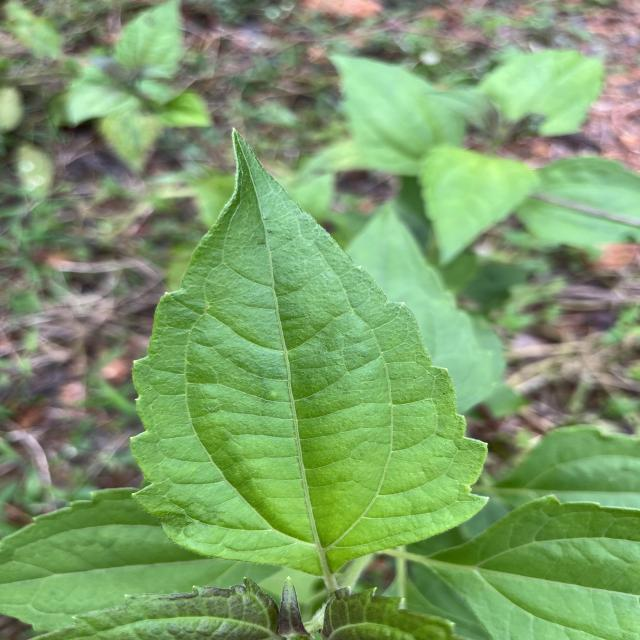Chromolaena odorata: (124, 122, 496, 580)
